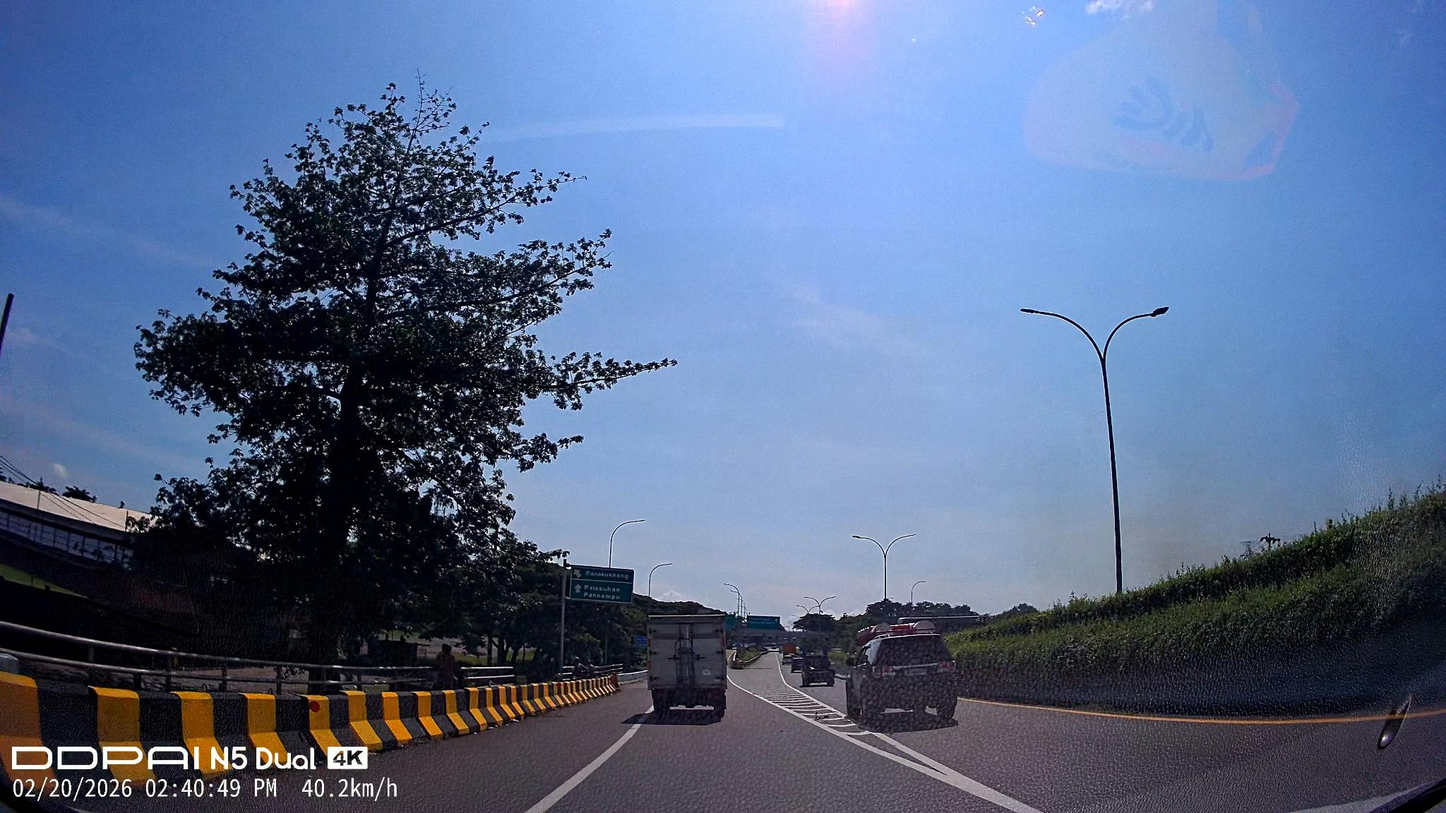rambu_teks: (570, 566, 634, 604)
